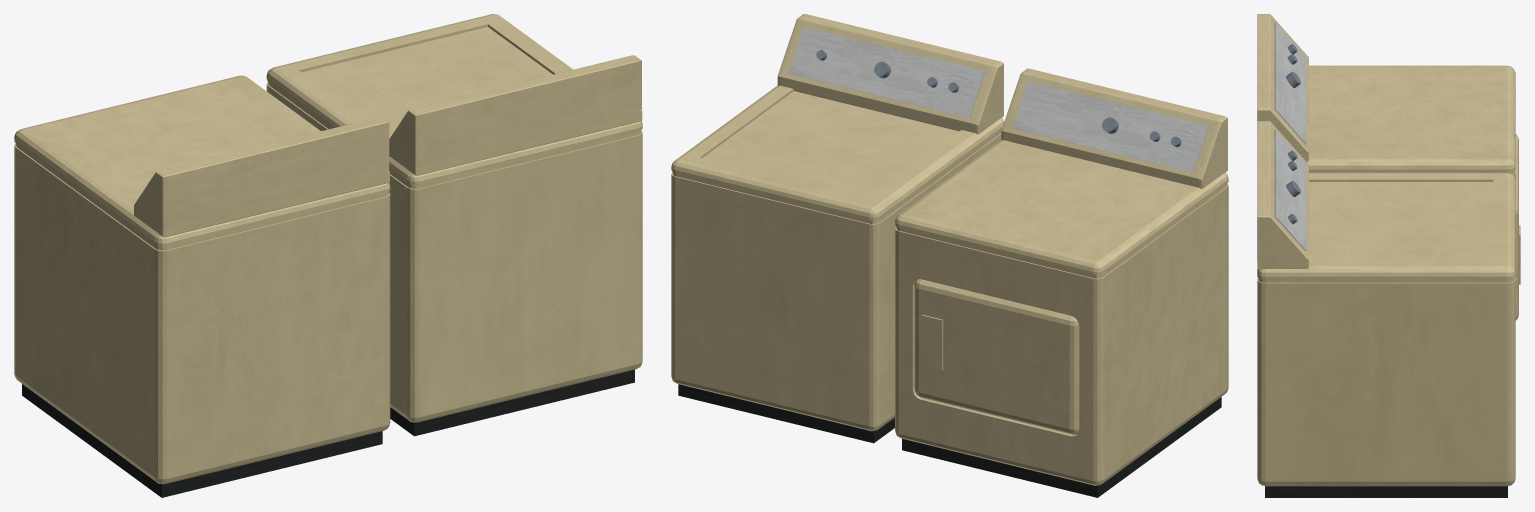
Rendered from 8. 세탁기.fbx.
3 views of the same model, side by side, from view 1: azimuth 30°, elevation 25°; view 2: azimuth 150°, elevation 25°; view 3: azimuth 270°, elevation 25° (orthographic). The views are drawn at different scales.
Visible parts, largest first — view 1: 건조기, 세탁기; view 2: 건조기, 세탁기; view 3: 세탁기, 건조기.
Part boxes in pixels (box(x1,y1,x2,y2)): 건조기: box(14, 75, 390, 497); 세탁기: box(266, 14, 642, 436); 건조기: box(895, 68, 1228, 497); 세탁기: box(671, 14, 1004, 443); 세탁기: box(1257, 121, 1515, 497); 건조기: box(1257, 14, 1520, 320).
Bounding box in the file's own units: 281 × 179 × 151.
4 materials, 4 textured.
